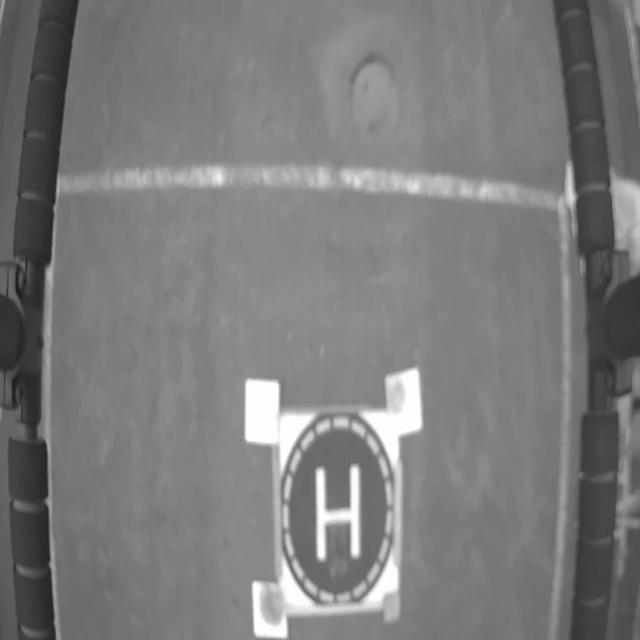Helipad: (315, 463, 360, 561)
